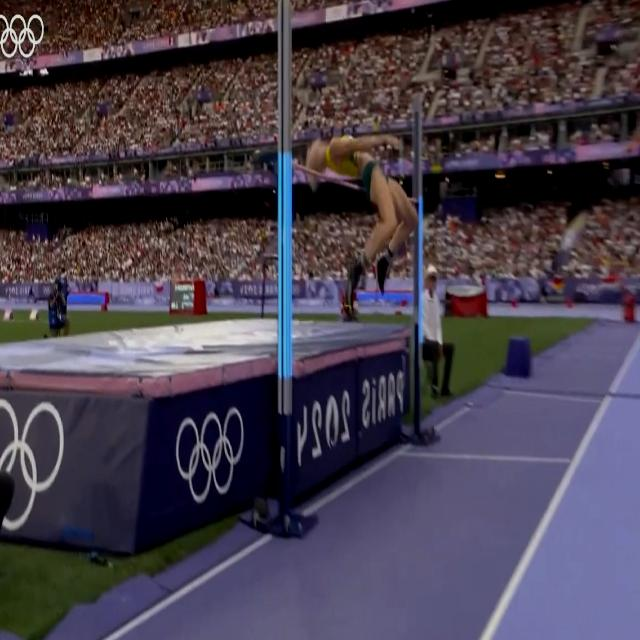jump: (308, 134, 420, 320)
